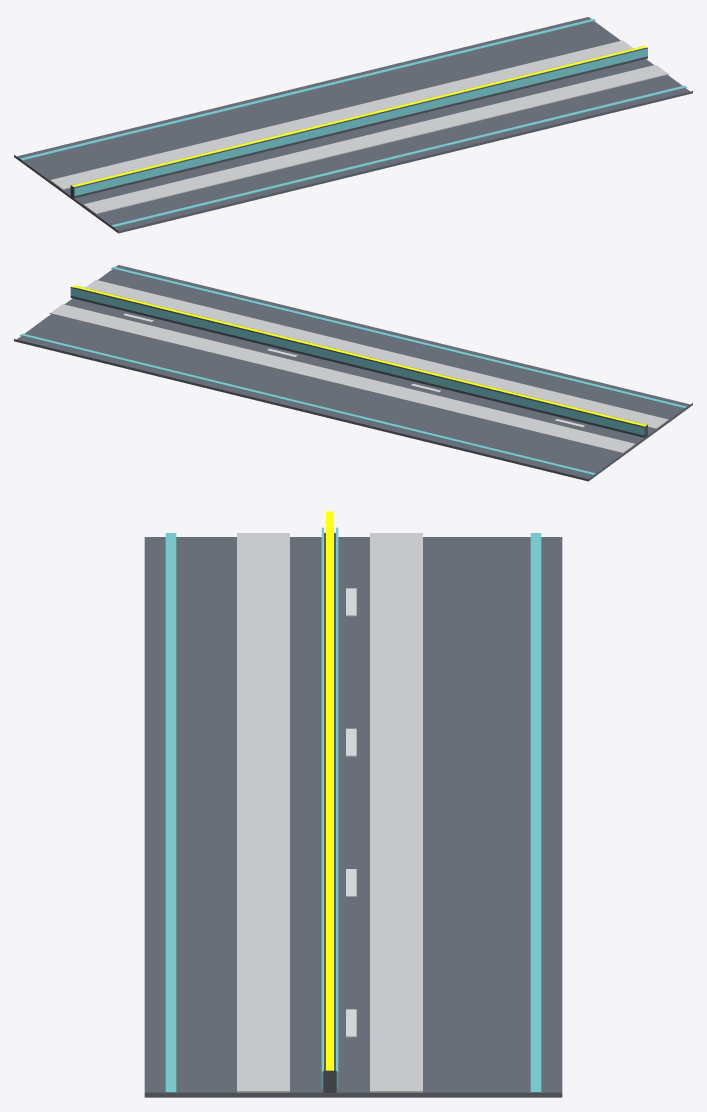
File: ext_maglev_guideway_03.glb
3 renders of one model, top to bottom at view 1: azimuth 30°, elevation 25°; view 2: azimuth 150°, elevation 25°; view 3: azimuth 270°, elevation 25°, orthographic. The views are drawn at different scales.
Visible parts, largest first — view 1: Bed, Stator_Lev, Stator_Guide, Side_Lines, Fin, Guide_Glow; view 2: Bed, Stator_Lev, Stator_Guide, Side_Lines, Fin, Guide_Glow, Fin_Markers; view 3: Bed, Stator_Lev, Side_Lines, Guide_Glow, Stator_Guide, Fin, Fin_Markers.
Boxes of the visible parts, left/top/right/bottom form: Bed: left=14, top=17, right=692, bottom=233; Stator_Lev: left=49, top=40, right=668, bottom=214; Stator_Guide: left=72, top=46, right=647, bottom=195; Side_Lines: left=20, top=18, right=686, bottom=227; Fin: left=70, top=47, right=647, bottom=198; Guide_Glow: left=72, top=46, right=646, bottom=186; Bed: left=14, top=265, right=692, bottom=481; Stator_Lev: left=49, top=280, right=669, bottom=453; Stator_Guide: left=70, top=285, right=646, bottom=435; Side_Lines: left=20, top=266, right=686, bottom=475; Fin: left=70, top=287, right=647, bottom=437; Guide_Glow: left=72, top=285, right=646, bottom=426; Fin_Markers: left=123, top=313, right=585, bottom=427; Bed: left=144, top=537, right=562, bottom=1097; Stator_Lev: left=237, top=533, right=422, bottom=1092; Side_Lines: left=165, top=533, right=541, bottom=1092; Guide_Glow: left=326, top=511, right=333, bottom=1070; Stator_Guide: left=321, top=527, right=338, bottom=1087; Fin: left=323, top=533, right=336, bottom=1092; Fin_Markers: left=346, top=588, right=356, bottom=1037.
Size of the model in its own units: 9.99 by 0.224 by 3.15.
